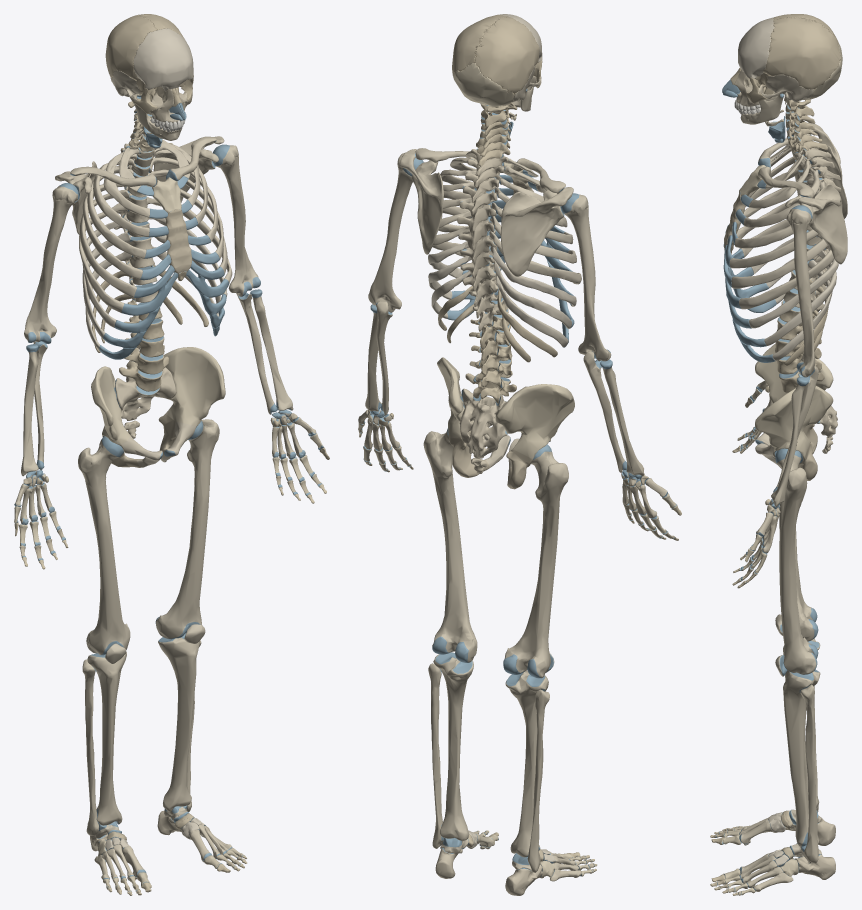
File: bones.glb
3 views of the same model, side by side, from view 1: azimuth 30°, elevation 25°; view 2: azimuth 150°, elevation 25°; view 3: azimuth 270°, elevation 25° (orthographic). The views are drawn at different scales.
Visible parts, largest first — view 1: b65, b64, b89, b225, b86, b226, b92, b91, b90, b161, b190, b67 (+18 smaller); view 2: b65, b64, b90, b194, b161, b225, b226, b92, b91, b89, b193, b190 (+15 smaller); view 3: b64, b160, b225, b89, b91, b193, b66, b86, b90, b188, b65, b203 (+28 smaller).
Boxes of the visible parts, bbox=[...] form: b65: bbox=[78, 436, 130, 655]; b64: bbox=[155, 419, 219, 639]; b89: bbox=[158, 347, 225, 462]; b225: bbox=[158, 633, 200, 811]; b86: bbox=[133, 28, 193, 91]; b226: bbox=[87, 652, 126, 825]; b92: bbox=[24, 183, 78, 343]; b91: bbox=[212, 144, 260, 296]; b90: bbox=[91, 366, 162, 467]; b161: bbox=[105, 15, 157, 79]; b190: bbox=[115, 367, 175, 420]; b67: bbox=[82, 659, 99, 835]; b65: bbox=[503, 444, 568, 678]; b64: bbox=[423, 428, 477, 662]; b90: bbox=[495, 384, 574, 489]; b194: bbox=[501, 187, 573, 276]; b161: bbox=[474, 16, 539, 93]; b225: bbox=[433, 652, 473, 840]; b226: bbox=[505, 671, 548, 857]; b92: bbox=[561, 193, 611, 361]; b91: bbox=[368, 153, 423, 312]; b89: bbox=[437, 357, 510, 477]; b193: bbox=[400, 149, 443, 254]; b190: bbox=[459, 388, 507, 458]; b64: bbox=[775, 448, 818, 674]; b160: bbox=[763, 17, 840, 89]; b225: bbox=[783, 669, 820, 846]; b89: bbox=[755, 386, 833, 480]; b91: bbox=[786, 205, 815, 377]; b193: bbox=[785, 184, 847, 264]; b66: bbox=[800, 684, 818, 863]; b86: bbox=[738, 17, 774, 78]; b90: bbox=[755, 343, 833, 453]; b188: bbox=[771, 377, 808, 506]; b65: bbox=[779, 470, 818, 641]; b203: bbox=[739, 249, 834, 309].
Bounding box in the file's own units: 66.93 × 170 × 25.01.
